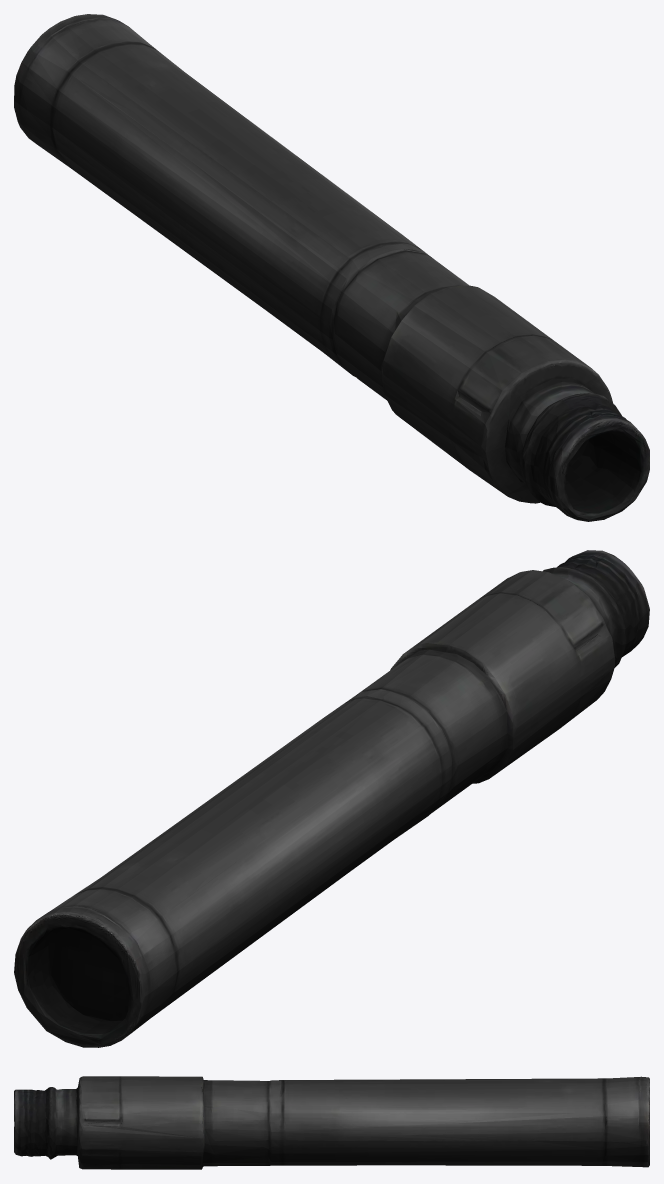
The model's file is black_suppressor.glb.
3 views of the same model, one above another, from view 1: azimuth 30°, elevation 25°; view 2: azimuth 150°, elevation 25°; view 3: azimuth 270°, elevation 25° (orthographic). The views are drawn at different scales.
Visible parts, largest first — view 1: geometry_0; view 2: geometry_0; view 3: geometry_0.
Part boxes in pixels (left/top/right/bottom): geometry_0: left=14, top=14, right=649, bottom=521; geometry_0: left=14, top=550, right=649, bottom=1047; geometry_0: left=14, top=1076, right=649, bottom=1169.
Size of the model in its own units: 0.1478 by 0.1475 by 1.
Materials: 1 (1 with a texture image).
